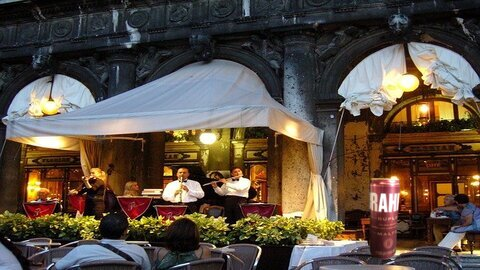duplo_malte: (366, 171, 401, 264)
